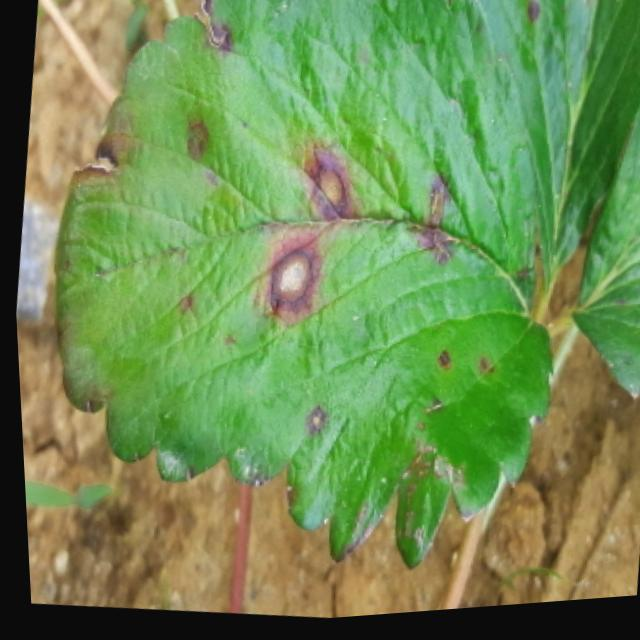Leaf Spot: (49, 0, 551, 573), (474, 0, 640, 303)
